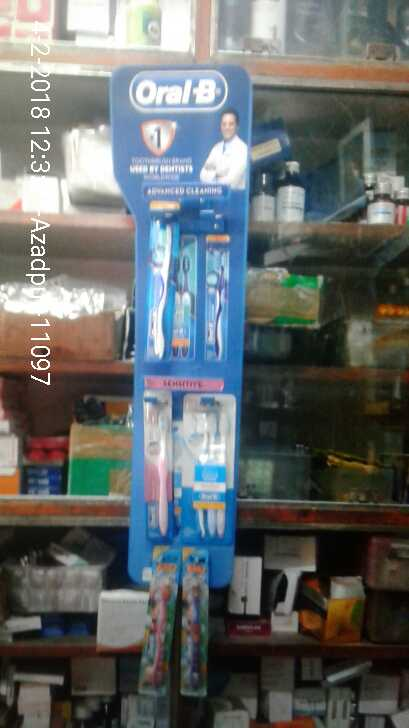oralb: (180, 396, 229, 539), (142, 205, 180, 363), (140, 392, 176, 546)
